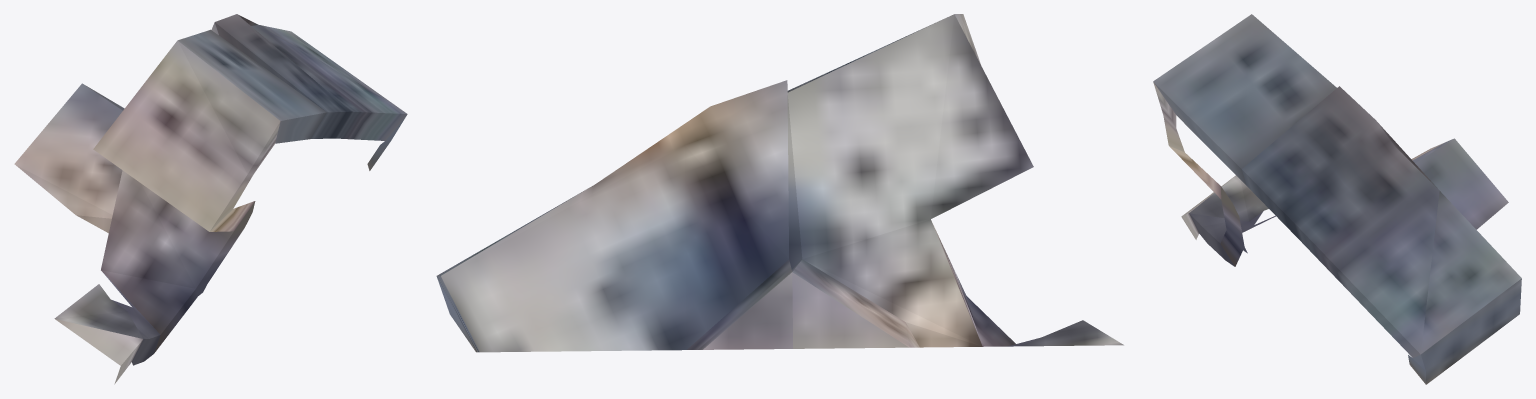
The picture shows the model from 3 angles, left to right: view 1: azimuth 30°, elevation 25°; view 2: azimuth 150°, elevation 25°; view 3: azimuth 270°, elevation 25°; orthographic projection. The views are drawn at different scales.
Size of the model in its own units: 31.12 by 19.53 by 24.4.
Materials: 1 (1 with a texture image).
